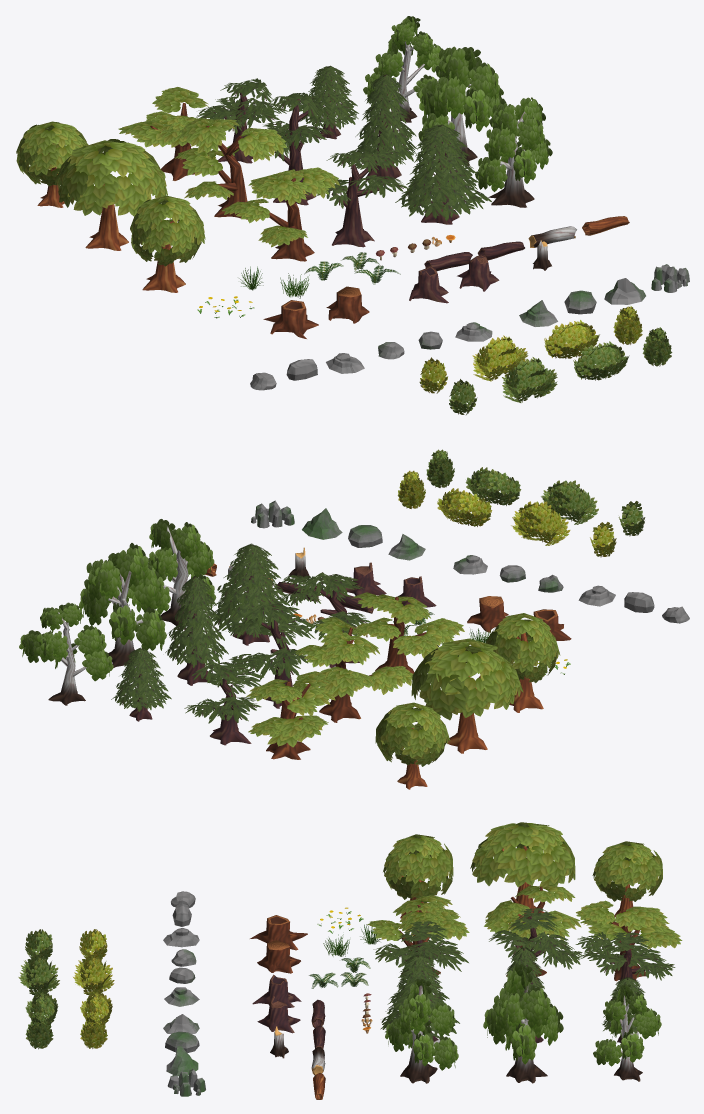
The model's file is low_poly_forest_pack_low_poly_environment_pack.glb.
The picture shows the model from 3 angles, top to bottom: view 1: azimuth 30°, elevation 25°; view 2: azimuth 150°, elevation 25°; view 3: azimuth 270°, elevation 25°; orthographic projection. The views are drawn at different scales.
Visible parts, largest first — view 1: oak_leaves.004_9, spruce_leaves_25, birch_leaves.002_33, birch_leaves.001_31, oak_leaves.002_15, oak_leaves_0, oak_leaves.001_13, spruce_leaves.001_27, oak_leaves.005_11, birch_leaves_35, oak_leaves.003_17, pine_leaves_19 (+28 smaller); view 2: oak_leaves.004_9, birch_leaves.002_33, oak_leaves.002_15, spruce_leaves_25, oak_leaves.003_17, oak_leaves.005_11, oak_leaves.001_13, birch_leaves_35, spruce_leaves.001_27, oak_leaves_0, birch_leaves.001_31, pine_leaves.001_21 (+31 smaller); view 3: oak_leaves.004_9, birch_leaves.002_33, birch_leaves.001_31, oak_leaves_0, oak_leaves.005_11, birch_leaves_35, oak_leaves.003_17, pine_leaves.002_23, oak_leaves.001_13, oak_leaves.002_15, pine_leaves.001_21, pine_leaves_19 (+24 smaller).
Part boxes in pixels (box(x1,y1,x2,y2)): oak_leaves.004_9: box(55, 139, 167, 216); spruce_leaves_25: box(395, 124, 491, 220); birch_leaves.002_33: box(418, 46, 506, 149); birch_leaves.001_31: box(475, 97, 552, 191); oak_leaves.002_15: box(175, 118, 287, 199); oak_leaves_0: box(130, 195, 205, 266); oak_leaves.001_13: box(221, 167, 339, 247); spruce_leaves.001_27: box(355, 74, 417, 166); oak_leaves.005_11: box(16, 121, 88, 186); birch_leaves_35: box(363, 16, 444, 101); oak_leaves.003_17: box(118, 87, 212, 147); pine_leaves_19: box(306, 147, 408, 208); oak_leaves.004_9: box(411, 638, 523, 720); birch_leaves.002_33: box(79, 543, 166, 650); oak_leaves.002_15: box(294, 617, 413, 697); spruce_leaves_25: box(212, 543, 296, 638); oak_leaves.003_17: box(246, 671, 335, 747); oak_leaves.005_11: box(375, 702, 450, 766); oak_leaves.001_13: box(351, 592, 464, 658); birch_leaves_35: box(19, 602, 113, 681); spruce_leaves.001_27: box(165, 575, 228, 668); oak_leaves_0: box(486, 613, 560, 682); birch_leaves.001_31: box(144, 519, 216, 614); pine_leaves.001_21: box(228, 601, 315, 679); oak_leaves.004_9: box(470, 822, 575, 887); birch_leaves.002_33: box(483, 963, 563, 1064); birch_leaves.001_31: box(385, 978, 458, 1070); oak_leaves_0: box(383, 834, 453, 903); oak_leaves.005_11: box(592, 841, 662, 901); birch_leaves_35: box(593, 984, 661, 1066); oak_leaves.003_17: box(576, 900, 682, 948); pine_leaves.002_23: box(575, 932, 675, 980); oak_leaves.001_13: box(367, 895, 469, 940); oak_leaves.002_15: box(484, 884, 581, 940); pine_leaves.001_21: box(489, 908, 582, 969); pine_leaves_19: box(373, 921, 468, 973).
Bounding box in the file's own units: 150 × 39.2 × 205.
2 materials, 2 textured.
